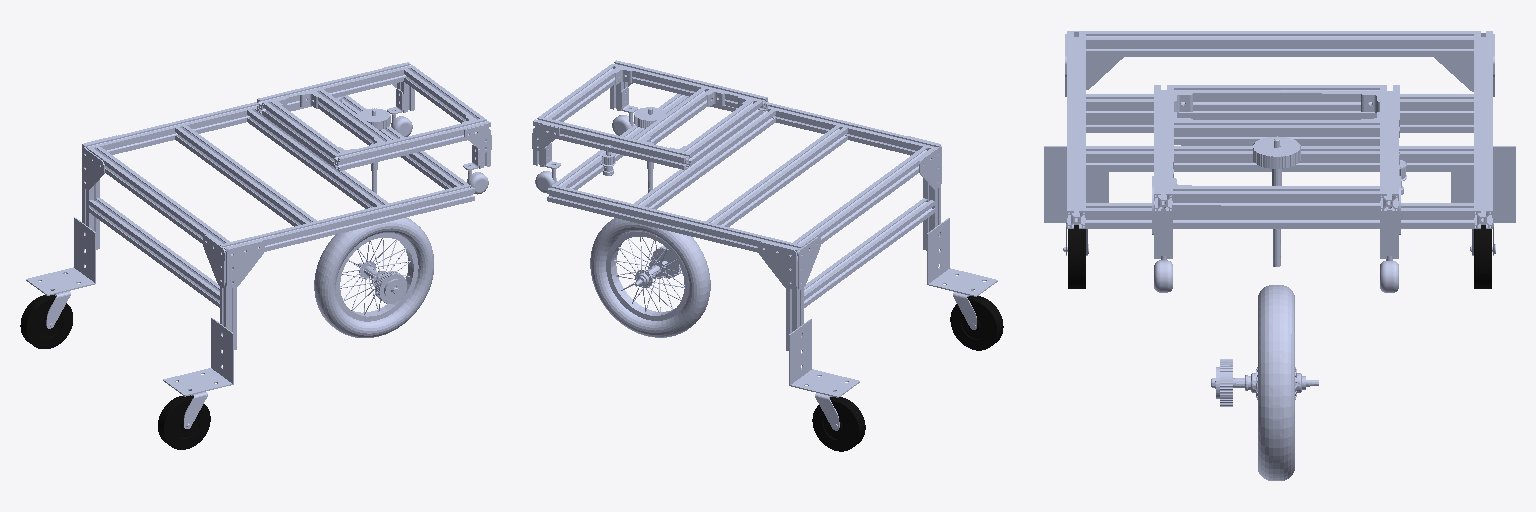
URDF robot description (One_wheel_frame_Assembly_v1):
<?xml version="1.0" encoding="utf-8"?>
<!-- This URDF was automatically created by SolidWorks to URDF Exporter! Originally created by [author] ([email redacted]) 
     Commit Version: 1.6.0-4-g7f85cfe  Build Version: 1.6.7995.38578
     For more information, please see http://wiki.ros.org/sw_urdf_exporter -->
<robot
  name="One_wheel_frame_Assembly_v1">
  
    <link    name="base_link"/>

  <link    name="base_footprint"/>

  <joint    name="base_joint"    type="fixed">
    <origin      xyz="0 0 0"      rpy="0 0 0" />
    <parent      link="base_link" />
    <child       link="chassis_link" />
   </joint>

  <joint    name="footprint_joint"    type="fixed">
    <origin      xyz="0 0 0"      rpy="0 0 0" />
    <child       link="base_link" />
    <parent      link="base_footprint" />
   </joint>
  
  
  <link
    name="chassis_link">
    <inertial>
      <origin
        xyz="-0.36556 0.0049205 -0.07701"
        rpy="0 0 0" />
      <mass
        value="5.0686" />
      <inertia
        ixx="0.034031"
        ixy="9.0833E-08"
        ixz="-0.00017281"
        iyy="0.018983"
        iyz="-9.0884E-08"
        izz="0.050597" />
    </inertial>
    <visual>
      <origin
        xyz="0 0 0"
        rpy="0 0 0" />
      <geometry>
        <mesh
          filename="package://One_wheel_frame_Assembly_v1/meshes/chassis_link.STL" />
      </geometry>
      <material
        name="">
        <color
          rgba="0.79216 0.81961 0.93333 1" />
      </material>
    </visual>
    <collision>
      <origin
        xyz="0 0 0"
        rpy="0 0 0" />
      <geometry>
        <mesh
          filename="package://One_wheel_frame_Assembly_v1/meshes/chassis_link.STL" />
      </geometry>
    </collision>
  </link>
  
  <gazebo reference="chassis_link">  
    <material>Gazebo/Grey</material>
  </gazebo>
  
  <link
    name="chassis_wheel_left">
    <inertial>
      <origin
        xyz="-0.014 1.1102E-16 0"
        rpy="0 0 0" />
      <mass
        value="5.32038" />
      <inertia
        ixx="0.00065681"
        ixy="3.0857E-20"
        ixz="5.0633E-21"
        iyy="0.00034759"
        iyz="-4.0658E-20"
        izz="0.00034759" />
    </inertial>
    <visual>
      <origin
        xyz="0 0 0"
        rpy="0 0 0" />
      <geometry>
        <mesh
          filename="package://One_wheel_frame_Assembly_v1/meshes/chassis_wheel_left.STL" />
      </geometry>
      <material
        name="">
        <color
          rgba="0.1098 0.1098 0.1098 1" />
      </material>
    </visual>
    <collision>
      <origin
        xyz="0 0 0"
        rpy="0 0 0" />
      <geometry>
        <mesh
          filename="package://One_wheel_frame_Assembly_v1/meshes/chassis_wheel_left.STL" />
      </geometry>
    </collision>
  </link>
  
  <gazebo reference="chassis_wheel_left">  
      <mu1 value="2.0"/>
      <mu2 value="1.0"/>
      <kp value="10000000.0" />
      <kd value="1.0" />
    <material>Gazebo/Grey</material>
  </gazebo>
  
  
  <joint
    name="chassis_wheel_left_joint"
    type="continuous">
    <origin
      xyz="-0.6824 0.30592 -0.4201"
      rpy="-2.5894 0 -1.5708" />
    <parent
      link="chassis_link" />
    <child
      link="chassis_wheel_left" />
    <axis
      xyz="1 0 0" />
      <limit effort="2" velocity="4.0"/>
  </joint>
  
  <transmission name="chassis_wheel_left_transmission">
	  <type>transmission_interface/SimpleTransmission</type>
	  <actuator name="chassis_wheel_left_motor">
		  <mechanicalReduction>1</mechanicalReduction>
	  </actuator>
	  <joint name="chassis_wheel_left_joint">
	 <hardwareInterface>hardware_interface/EffortJointInterface</hardwareInterface>
	  </joint>
  </transmission>
  
  
  
  
  <link
    name="chassis_wheel_right">
    <inertial>
      <origin
        xyz="-0.014 2.2204E-16 -2.2204E-16"
        rpy="0 0 0" />
      <mass
        value="5.32038" />
      <inertia
        ixx="0.00065681"
        ixy="-1.6662E-19"
        ixz="1.9574E-19"
        iyy="0.00034759"
        iyz="2.7105E-20"
        izz="0.00034759" />
    </inertial>
    <visual>
      <origin
        xyz="0 0 0"
        rpy="0 0 0" />
      <geometry>
        <mesh
          filename="package://One_wheel_frame_Assembly_v1/meshes/chassis_wheel_right.STL" />
      </geometry>
      <material
        name="">
        <color
          rgba="0.1098 0.1098 0.1098 1" />
      </material>
    </visual>
    <collision>
      <origin
        xyz="0 0 0"
        rpy="0 0 0" />
      <geometry>
        <mesh
          filename="package://One_wheel_frame_Assembly_v1/meshes/chassis_wheel_right.STL" />
      </geometry>
    </collision>
  </link>
  
  <gazebo reference="chassis_wheel_right">
    <mu1 value="2.0"/>
      <mu2 value="1.0"/>
      <kp value="10000000.0" />
      <kd value="1.0" />  
    <material>Gazebo/Grey</material>
  </gazebo>
  
  
  
  <joint
    name="chassis_wheel_right_joint"
    type="continuous">
    <origin
      xyz="-0.6824 -0.32408 -0.4201"
      rpy="-2.2426 0 -1.5708" />
    <parent
      link="chassis_link" />
    <child
      link="chassis_wheel_right" />
    <axis
      xyz="1 0 0" />
      
      <limit effort="2" velocity="4.0"/>
      
  </joint>
  
  
  <transmission name="chassis_wheel_right_transmission">
	  <type>transmission_interface/SimpleTransmission</type>
	  <actuator name="chassis_wheel_right_motor">
		  <mechanicalReduction>1</mechanicalReduction>
	  </actuator>
	  <joint name="chassis_wheel_right_joint">
	 <hardwareInterface>hardware_interface/EffortJointInterface</hardwareInterface>
	  </joint>
  </transmission>
  
  
  
  
    <joint
    name="chassis_to_module"
    type="fixed">
    <origin
      xyz="0 0 0.005"
      rpy="0 0 3.14" />
    <parent
      link="chassis_link" />
    <child
      link="module_base" />
  </joint>
  
  
    <link
    name="module_base">
    <inertial>
      <origin
        xyz="0.031724 -0.12886 -0.039095"
        rpy="0 0 0" />
      <mass
        value="2.1961" />
      <inertia
        ixx="0.0063697"
        ixy="3.3879E-05"
        ixz="-1.3091E-07"
        iyy="0.0035478"
        iyz="-1.1651E-06"
        izz="0.009033" />
    </inertial>
    <visual>
      <origin
        xyz="0 0 0"
        rpy="0 0 0" />
      <geometry>
        <mesh
          filename="package://ROS_Module_Assembly_v7/meshes/base_link.STL" />
      </geometry>
      <material
        name="">
        <color
          rgba="0.79216 0.81961 0.93333 1" />
      </material>
    </visual>
    <collision>
      <origin
        xyz="0 0 0"
        rpy="0 0 0" />
      <geometry>
        <mesh
          filename="package://ROS_Module_Assembly_v7/meshes/base_link.STL" />
      </geometry>
    </collision>
  </link>
  
    <gazebo reference="module_base">  
    <material>Gazebo/Grey</material>
  </gazebo>
  
  
  <link
    name="input_rot_motor">
    <inertial>
      <origin
        xyz="-4.2772E-05 0.032009 7.4354E-05"
        rpy="0 0 0" />
      <mass
        value="0.025091" />
      <inertia
        ixx="7.1785E-06"
        ixy="6.7784E-10"
        ixz="-1.1692E-08"
        iyy="2.3424E-06"
        iyz="-1.1777E-09"
        izz="7.1921E-06" />
    </inertial>
    <visual>
      <origin
        xyz="0 0 0"
        rpy="0 0 0" />
      <geometry>
        <mesh
          filename="package://ROS_Module_Assembly_v7/meshes/input_rot_motor.STL" />
      </geometry>
      <material
        name="">
        <color
          rgba="0.79216 0.81961 0.93333 1" />
      </material>
    </visual>
    <collision>
      <origin
        xyz="0 0 0"
        rpy="0 0 0" />
      <geometry>
        <mesh
          filename="package://ROS_Module_Assembly_v7/meshes/input_rot_motor.STL" />
      </geometry>
    </collision>
  </link>
  
    <gazebo reference="input_rot_motor">  
    <material>Gazebo/Grey</material>
  </gazebo>
  
  
  
  <joint
    name="base_to_input_rot_motor"
    type="continuous">
    <origin
      xyz="-0.00425 -0.18427 -0.009"
      rpy="1.5708 0 -1.5708" />
    <parent
      link="module_base" />
    <child
      link="input_rot_motor" />
    <axis
      xyz="0 1 0" />
  </joint>
  
  <transmission name="base_to_input_rot_motor_transmission">
	  <type>transmission_interface/SimpleTransmission</type>
	  <actuator name="base_to_input_rot_motor_motor">
		  <mechanicalReduction>1</mechanicalReduction>
	  </actuator>
	  <joint name="base_to_input_rot_motor">
	 <hardwareInterface>hardware_interface/EffortJointInterface</hardwareInterface>
	  </joint>
  </transmission>
  
  
  
  <link
    name="input_transl_motor">
    <inertial>
      <origin
        xyz="-1.865E-05 0.047153 -6.6546E-05"
        rpy="0 0 0" />
      <mass
        value="0.032255" />
      <inertia
        ixx="1.5951E-05"
        ixy="1.8513E-09"
        ixz="3.575E-09"
        iyy="2.7304E-06"
        iyz="6.6055E-09"
        izz="1.5963E-05" />
    </inertial>
    <visual>
      <origin
        xyz="0 0 0"
        rpy="0 0 0" />
      <geometry>
        <mesh
          filename="package://ROS_Module_Assembly_v7/meshes/input_transl_motor.STL" />
      </geometry>
      <material
        name="">
        <color
          rgba="0.79216 0.81961 0.93333 1" />
      </material>
    </visual>
    <collision>
      <origin
        xyz="0 0 0"
        rpy="0 0 0" />
      <geometry>
        <mesh
          filename="package://ROS_Module_Assembly_v7/meshes/input_transl_motor.STL" />
      </geometry>
    </collision>
  </link>
  
  <gazebo reference="input_transl_motor">  
    <material>Gazebo/Grey</material>
  </gazebo>
  
  <joint
    name="base_to_transl_input"
    type="continuous">
    <origin
      xyz="0.07615 -0.16897 -0.008"
      rpy="1.5708 0 -1.8542" />
    <parent
      link="module_base" />
    <child
      link="input_transl_motor" />
    <axis
      xyz="0 1 0" />
  </joint>
  
  <transmission name="base_to_input_transl_motor_transmission">
	  <type>transmission_interface/SimpleTransmission</type>
	  <actuator name="base_to_input_transl_motor_motor">
		  <mechanicalReduction>1</mechanicalReduction>
	  </actuator>
	  <joint name="base_to_transl_input">
	 <hardwareInterface>hardware_interface/EffortJointInterface</hardwareInterface>
	  </joint>
  </transmission>
  
  <link
    name="fork">
    <inertial>
      <origin
        xyz="9.71972270756294E-05 0.0198553943634375 -0.176442224634371"
        rpy="0 0 0" />
      <mass
        value="2.19393880104194" />
      <inertia
        ixx="0.00906173079445319"
        ixy="-1.54635659139062E-08"
        ixz="4.26201865444728E-06"
        iyy="0.0114899357916851"
        iyz="2.93350054751845E-05"
        izz="0.00390974131459931" />
    </inertial>
    <visual>
      <origin
        xyz="0 0 0"
        rpy="0 0 0" />
      <geometry>
        <mesh
          filename="package://ROS_Module_Assembly_v7/meshes/fork.STL" />
      </geometry>
      <material
        name="">
        <color
          rgba="0.792156862745098 0.819607843137255 0.933333333333333 1" />
      </material>
    </visual>
    <collision>
      <origin
        xyz="0 0 0"
        rpy="0 0 0" />
      <geometry>
        <mesh
          filename="package://ROS_Module_Assembly_v7/meshes/fork.STL" />
      </geometry>
    </collision>
  </link>
  
  <gazebo reference="fork">  
    <material>Gazebo/Grey</material>
  </gazebo>
  
  
  <joint
    name="base_to_rot_fork"
    type="continuous">
    <origin
      xyz="0 0 0"
      rpy="0 0 0" />
    <parent
      link="module_base" />
    <child
      link="fork" />
    <axis
      xyz="0 0 1" />
      <limit effort="40" velocity="2.0"/>
  </joint>
  
  <transmission name="fork_to_wheel_transmission">
	  <type>transmission_interface/SimpleTransmission</type>
	  <actuator name="fork_to_wheel_motor">
		  <mechanicalReduction>1</mechanicalReduction>
	  </actuator>
	  <joint name="base_to_rot_fork">
	 <hardwareInterface>hardware_interface/EffortJointInterface</hardwareInterface>
	  </joint>
  </transmission>
  
  
<link
    name="wheel">
    <inertial>
      <origin
        xyz="-3.0377E-06 -3.9614E-06 -0.0039564"
        rpy="0 0 0" />
      <mass
        value="2.0757" />
      <inertia
        ixx="0.016615"
        ixy="-4.0151E-09"
        ixz="9.5859E-08"
        iyy="0.016615"
        iyz="1.5018E-09"
        izz="0.0323" />
    </inertial>
    <visual>
      <origin
        xyz="0 0 0"
        rpy="0 0 0" />
      <geometry>
        <mesh
          filename="package://ROS_Module_Assembly_v8/meshes/wheel.STL" />
      </geometry>
      <material
        name="">
        <color
          rgba="0.79216 0.81961 0.93333 1" />
      </material>
    </visual>
    <collision>
      <origin
        xyz="0 0 0"
        rpy="0 0 0" />
      <geometry>
      <cylinder length="0.055" radius="0.1526"/>
       <!-- <mesh filename="package://ROS_Module_Assembly_v8/meshes/wheel.STL" /> -->
      </geometry>
    </collision>
  </link>

  
  <gazebo reference="wheel">
      <mu1 value="20.0"/>
      <mu2 value="10.0"/>
      <kp value="10000000.0" />
      <kd value="1.0" />  
    <material>Gazebo/Grey</material>
  </gazebo>
  
    <joint
    name="fork_to_wheel"
    type="continuous">
    <origin
      xyz="0 0.0005 -0.336"
      rpy="1.5708 0 0" />
    <parent
      link="fork" />
    <child
      link="wheel" />
    <axis
      xyz="0 0 1" />
      <limit effort="60000" velocity="50.0"/>
  </joint>
  
  
   <transmission name="fork_to_wheel_transmission">
	  <type>transmission_interface/SimpleTransmission</type>
	  <actuator name="fork_to_wheel_motor">
		  <mechanicalReduction>1</mechanicalReduction>
	  </actuator>
	  <joint name="fork_to_wheel">
	 <hardwareInterface>hardware_interface/EffortJointInterface</hardwareInterface>
	  </joint>
  </transmission>
  
  
  
  <link
    name="vert_bevel_shaft">
    <inertial>
      <origin
        xyz="-4.11906576242016E-06 0.170664525496025 -2.07212903265419E-05"
        rpy="0 0 0" />
      <mass
        value="0.119268839432703" />
      <inertia
        ixx="0.000123219155791243"
        ixy="-9.10291133470512E-09"
        ixz="2.32362997039993E-09"
        iyy="6.17307007401612E-05"
        iyz="-4.57855855631892E-08"
        izz="0.000123230383261293" />
    </inertial>
    <visual>
      <origin
        xyz="0 0 0"
        rpy="0 0 0" />
      <geometry>
        <mesh
          filename="package://ROS_Module_Assembly_v7/meshes/vert_bevel_shaft.STL" />
      </geometry>
      <material
        name="">
        <color
          rgba="0.792156862745098 0.819607843137255 0.933333333333333 1" />
      </material>
    </visual>
    <collision>
      <origin
        xyz="0 0 0"
        rpy="0 0 0" />
      <geometry>
        <mesh
          filename="package://ROS_Module_Assembly_v7/meshes/vert_bevel_shaft.STL" />
      </geometry>
    </collision>
  </link>
  
  <gazebo reference="vert_bevel_shaft">  
    <material>Gazebo/Grey</material>
  </gazebo>
  
  
  <joint
    name="base_to_rot_bevel_shaft"
    type="continuous">
    <origin
      xyz="0 0 -0.1357"
      rpy="1.5708 0 -0.1391" />
    <parent
      link="module_base" />
    <child
      link="vert_bevel_shaft" />
    <axis
      xyz="0 1 0" />
  </joint>
  
  
          <!-- Gazebo plugin for ROS Control -->
   <gazebo>
    <plugin name="gazebo_ros_control" filename="libgazebo_ros_control.so">
          </plugin>
 	 </gazebo>  
 
  
  
</robot>

--- Facts derived from the render (not from the file) ---
The picture shows the robot from 3 angles, left to right: view 1: azimuth 30°, elevation 25°; view 2: azimuth 150°, elevation 25°; view 3: azimuth 270°, elevation 25°; orthographic projection.
Model One_wheel_frame_Assembly_v1 with 11 links and 10 joints (7 continuous, 3 fixed), rooted at base_footprint, posed every joint at zero.
Links seen in each view (by area): view 1: chassis_link, module_base, wheel, chassis_wheel_right, chassis_wheel_left, vert_bevel_shaft; view 2: chassis_link, module_base, wheel, chassis_wheel_right, chassis_wheel_left, vert_bevel_shaft; view 3: chassis_link, module_base, wheel, vert_bevel_shaft, chassis_wheel_left, chassis_wheel_right.
Boxes of the visible links, x1,y1,x2,y2 form: chassis_link: (26,95,474,428); module_base: (257,62,491,194); wheel: (314,217,433,337); chassis_wheel_right: (158,395,210,449); chassis_wheel_left: (20,295,72,348); vert_bevel_shaft: (358,108,390,193); chassis_link: (547,94,997,430); module_base: (532,60,767,192); wheel: (590,218,710,337); chassis_wheel_right: (950,296,1003,350); chassis_wheel_left: (812,397,865,451); vert_bevel_shaft: (634,107,666,192); chassis_link: (1044,31,1515,255); module_base: (1152,85,1400,292); wheel: (1211,285,1318,480); vert_bevel_shaft: (1253,136,1300,266); chassis_wheel_left: (1474,225,1491,288); chassis_wheel_right: (1068,225,1085,288).
Size in the robot's own frame: 0.9452 by 0.73 by 0.5698 metres.
7 mesh visuals loaded from 9 distinct referenced files (7 binary STL); not drawn: 2 (reference not matched to a file when rendering).
